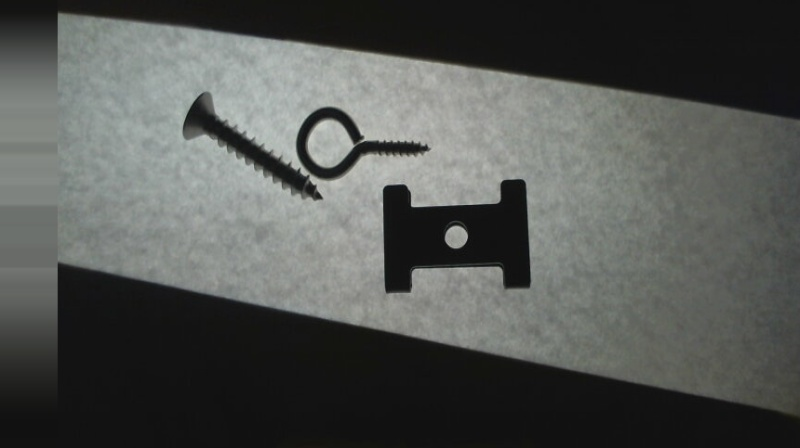O001: (292, 102, 433, 182)
O002: (378, 175, 534, 295)
S001: (178, 87, 328, 203)
